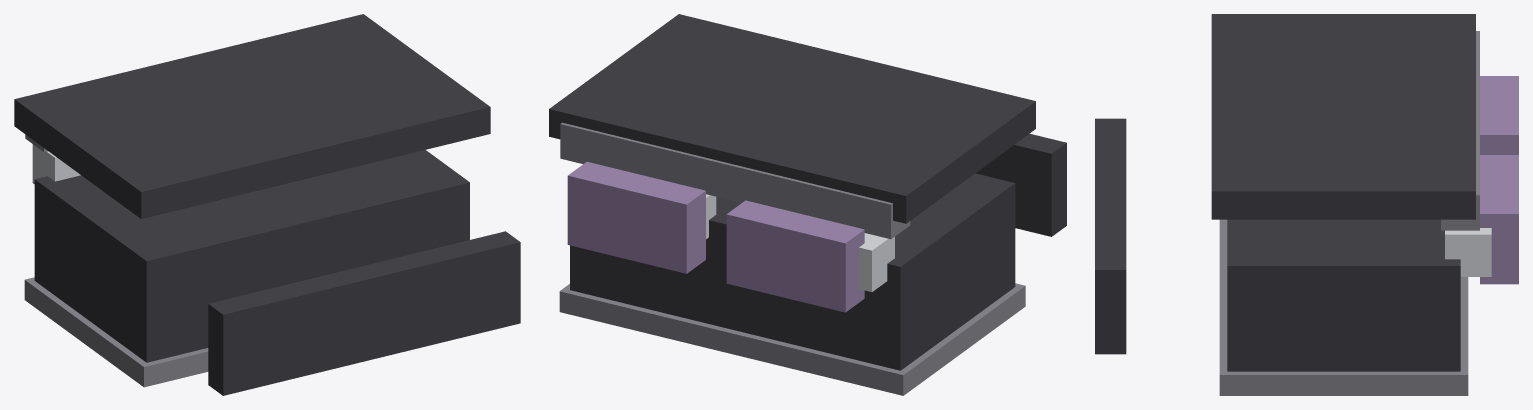
Rendered from memory_card_slot.gltf.
3 views of the same model, side by side, from view 1: azimuth 30°, elevation 25°; view 2: azimuth 150°, elevation 25°; view 3: azimuth 270°, elevation 25° (orthographic). The views are drawn at different scales.
Parts seen in each view (by area): view 1: memory_card_slot; view 2: memory_card_slot; view 3: memory_card_slot.
Boxes of the visible parts, bbox=[...] form: memory_card_slot: bbox=[14, 14, 520, 395]; memory_card_slot: bbox=[549, 14, 1066, 395]; memory_card_slot: bbox=[1095, 14, 1518, 395].
Size of the model in its own units: 0.054 by 0.0305 by 0.0545.
